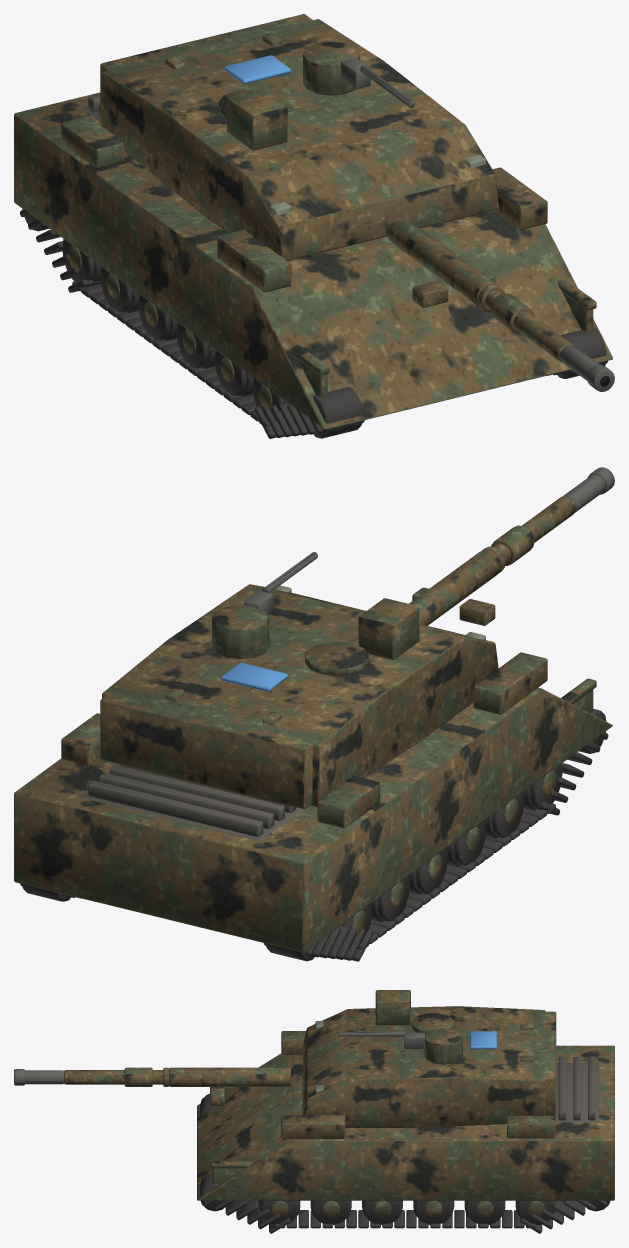
File: mbt_e4_fr_leclerc_LOD0.glb
3 views of the same model, one above another, from view 1: azimuth 30°, elevation 25°; view 2: azimuth 150°, elevation 25°; view 3: azimuth 270°, elevation 25° (orthographic). The views are drawn at different scales.
Visible parts, largest first — view 1: mbt_e4_fr_leclerc_LOD0_body, mbt_e4_fr_leclerc_LOD0_track, mbt_e4_fr_leclerc_LOD0_gun, mbt_e4_fr_leclerc_LOD0_team; view 2: mbt_e4_fr_leclerc_LOD0_body, mbt_e4_fr_leclerc_LOD0_track, mbt_e4_fr_leclerc_LOD0_deck, mbt_e4_fr_leclerc_LOD0_gun, mbt_e4_fr_leclerc_LOD0_team; view 3: mbt_e4_fr_leclerc_LOD0_body, mbt_e4_fr_leclerc_LOD0_track, mbt_e4_fr_leclerc_LOD0_deck, mbt_e4_fr_leclerc_LOD0_gun, mbt_e4_fr_leclerc_LOD0_team.
Boxes of the visible parts, bbox=[...] form: mbt_e4_fr_leclerc_LOD0_body: bbox=[14, 14, 612, 429]; mbt_e4_fr_leclerc_LOD0_track: bbox=[20, 209, 607, 438]; mbt_e4_fr_leclerc_LOD0_gun: bbox=[341, 58, 614, 391]; mbt_e4_fr_leclerc_LOD0_team: bbox=[224, 55, 291, 84]; mbt_e4_fr_leclerc_LOD0_body: bbox=[14, 496, 612, 952]; mbt_e4_fr_leclerc_LOD0_track: bbox=[20, 709, 608, 961]; mbt_e4_fr_leclerc_LOD0_deck: bbox=[81, 764, 303, 840]; mbt_e4_fr_leclerc_LOD0_gun: bbox=[244, 467, 614, 614]; mbt_e4_fr_leclerc_LOD0_team: bbox=[221, 662, 287, 691]; mbt_e4_fr_leclerc_LOD0_body: bbox=[64, 990, 614, 1216]; mbt_e4_fr_leclerc_LOD0_track: bbox=[200, 1093, 610, 1233]; mbt_e4_fr_leclerc_LOD0_deck: bbox=[555, 1056, 599, 1122]; mbt_e4_fr_leclerc_LOD0_gun: bbox=[14, 1031, 424, 1085]; mbt_e4_fr_leclerc_LOD0_team: bbox=[470, 1031, 496, 1049].
Bounding box in the file's own units: 3.71 × 3.09 × 9.87.
7 materials, 1 textured.
